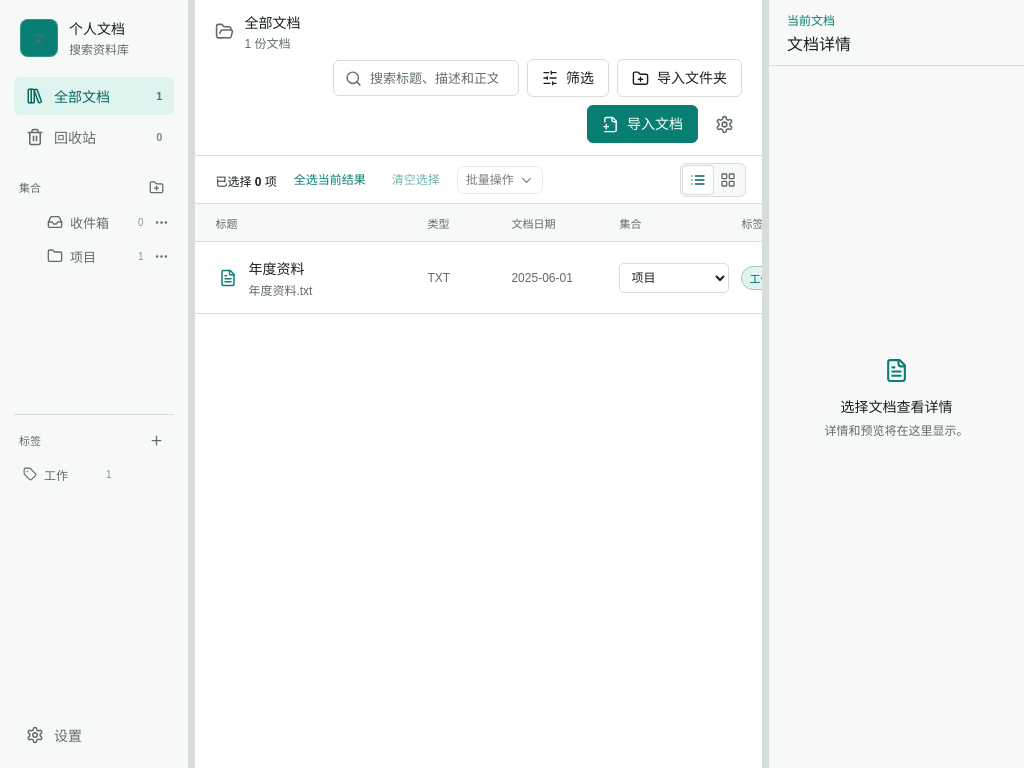
it: 全文搜索与筛选 › shows a retryable error state when search fails
expect the text "年度资料" is shown: met, box [248,260,304,276]
Type "年度" into the search field named "搜索文档".
click(440, 78); type("年度")  # box [370,61,511,95]
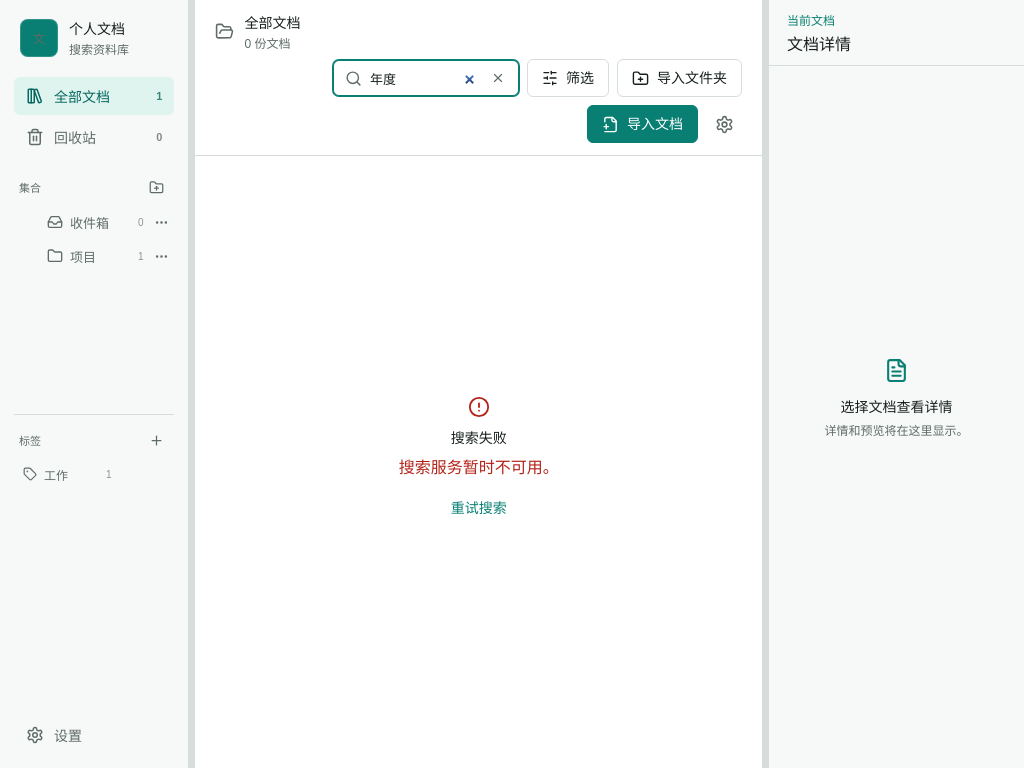
expect the element "搜索失败" shows "搜索服务暂时不可用": met, box [399,459,559,476]
Click the button "重试搜索".
click(479, 509)  # box [436,490,522,528]
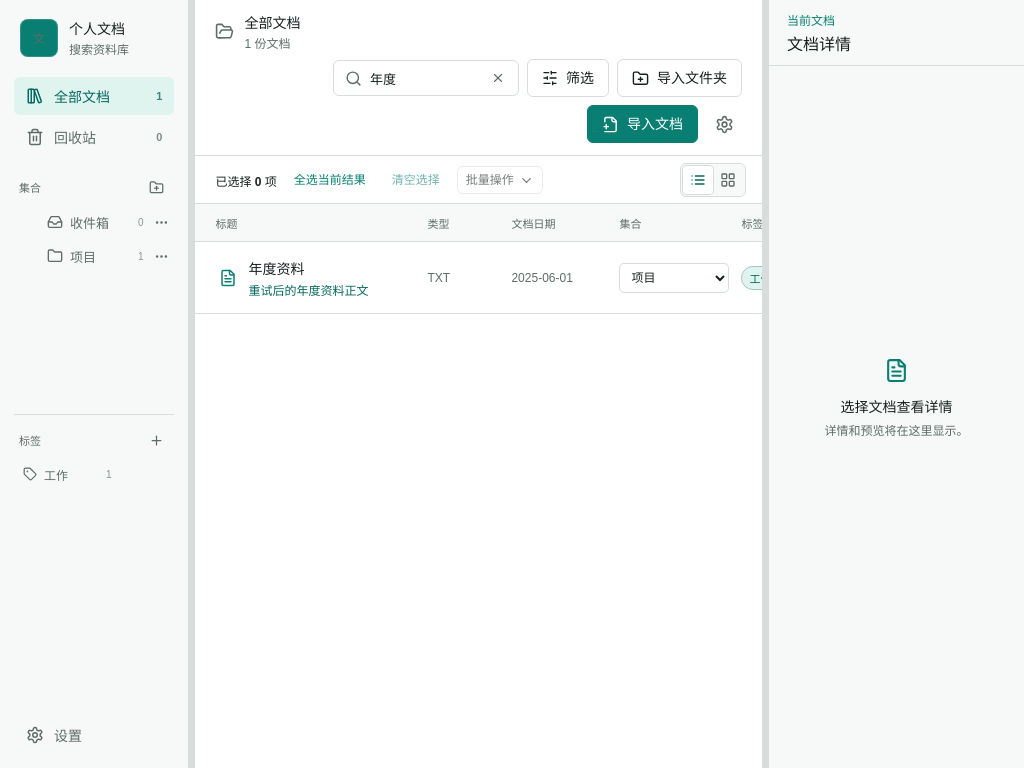
expect the text "重试后的年度资料正文" is shown: met, box [248,284,368,298]
